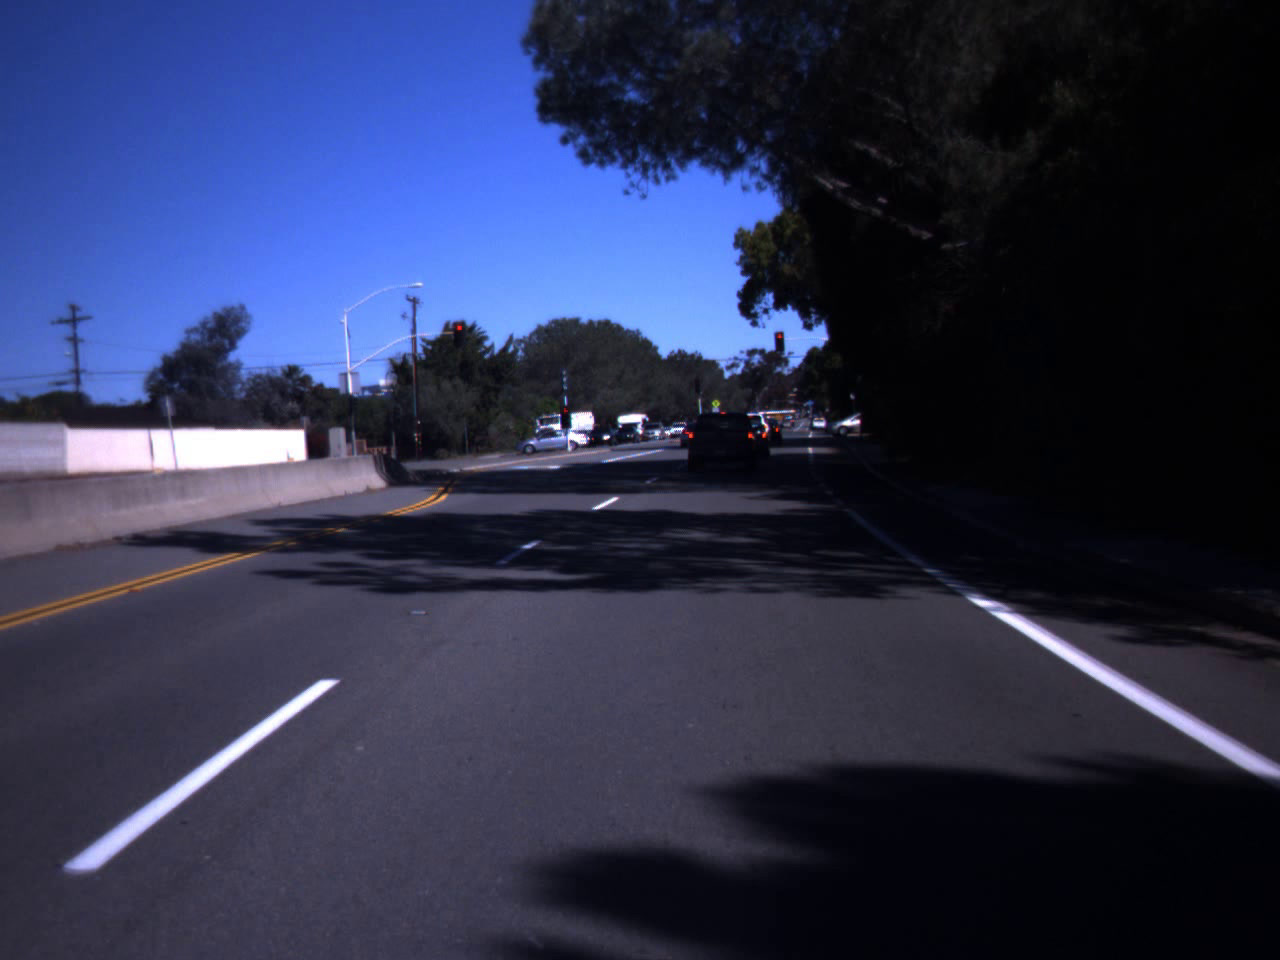stop: (454, 324, 466, 342), (774, 332, 786, 350), (560, 406, 572, 424)
